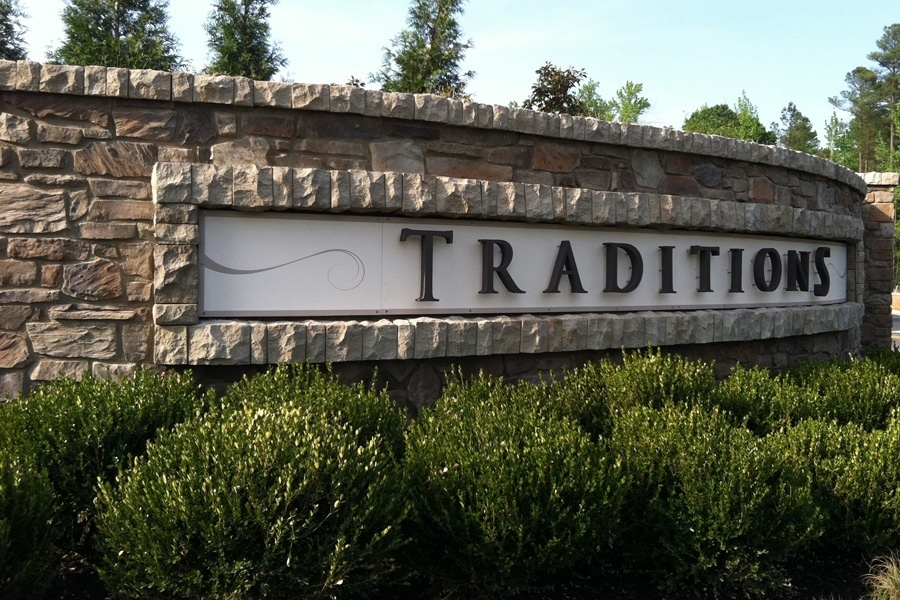text: (817, 227, 833, 304), (401, 227, 416, 304), (417, 227, 432, 304), (433, 227, 448, 304), (449, 227, 464, 304), (465, 227, 480, 304), (481, 227, 496, 304), (497, 227, 512, 304), (513, 227, 528, 304), (529, 227, 544, 304), (545, 227, 560, 304), (561, 227, 576, 304), (577, 227, 592, 304), (593, 227, 608, 304), (609, 227, 624, 304), (625, 227, 640, 304), (641, 227, 656, 304), (657, 227, 672, 304), (673, 227, 688, 304), (689, 227, 704, 304), (705, 227, 720, 304), (721, 227, 736, 304), (737, 227, 752, 304), (753, 227, 768, 304), (769, 227, 784, 304), (785, 227, 800, 304), (801, 227, 816, 304), (399, 227, 400, 304)
